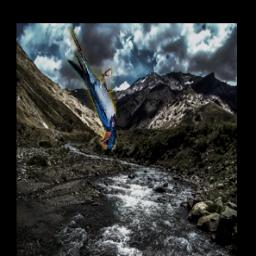Swallow: (68, 27, 117, 150)
